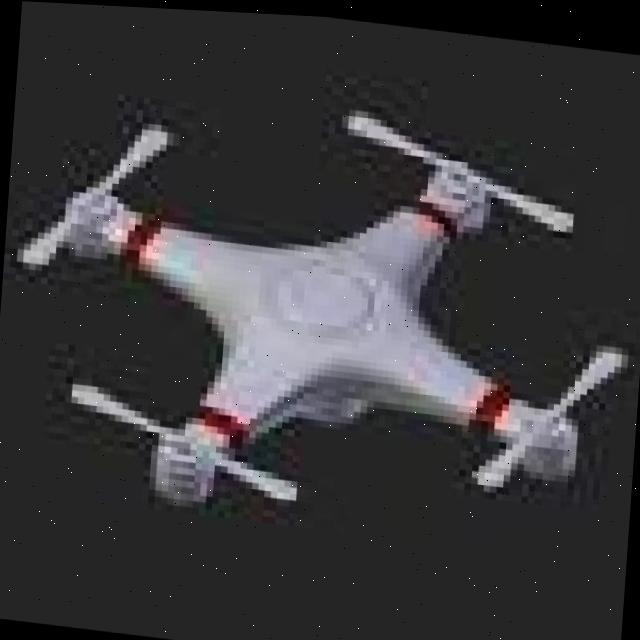drone: (0, 64, 640, 583)
